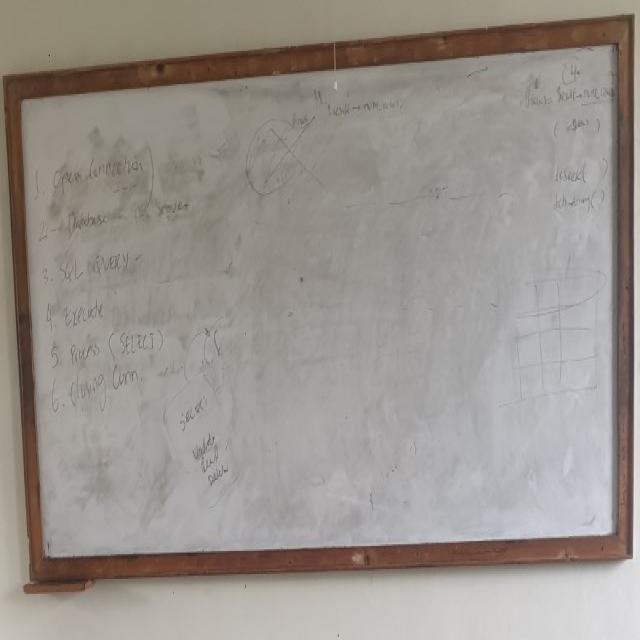White-board: (9, 27, 628, 574)
